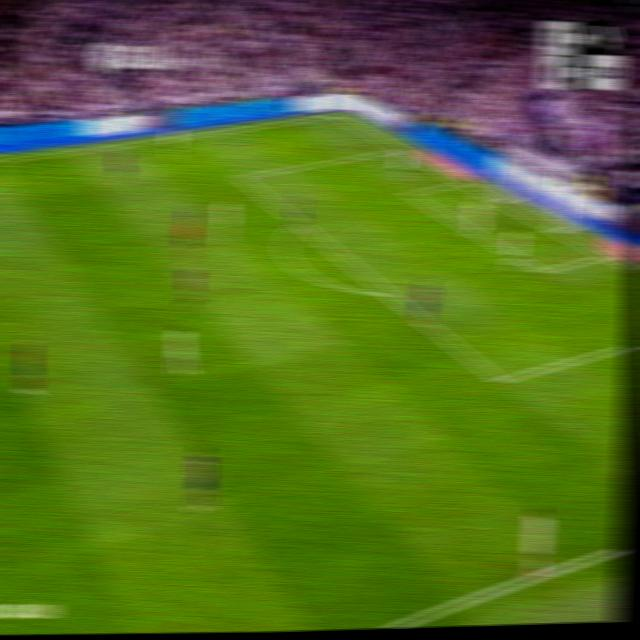bigarea_bottom_inner: (490, 369, 510, 391)
bigarea_top_inner: (234, 168, 250, 183)
bigarea_top_outter: (390, 141, 406, 154)
bottom_arc_area_intersection: (379, 284, 397, 301)
corner: (329, 111, 342, 118)
smallarea_top_inner: (404, 187, 417, 197)
